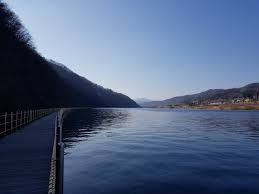mountain: (5, 40, 140, 109)
sea: (65, 108, 255, 187)
sky: (28, 2, 259, 94)
